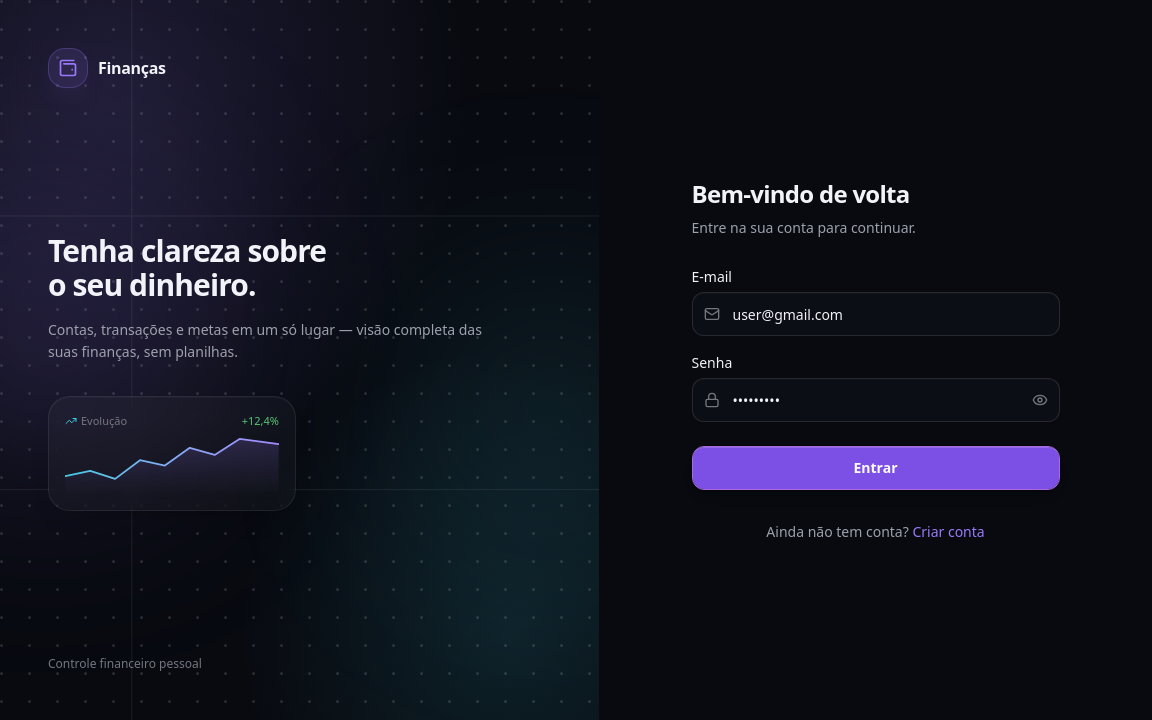
Test: LoginPage › shows the backend message and stays on the page when credentials are invalid
Replace the text in the field labelled "E-mail" with "ana@example.com" at [876, 314], box [692,292,1060,336]
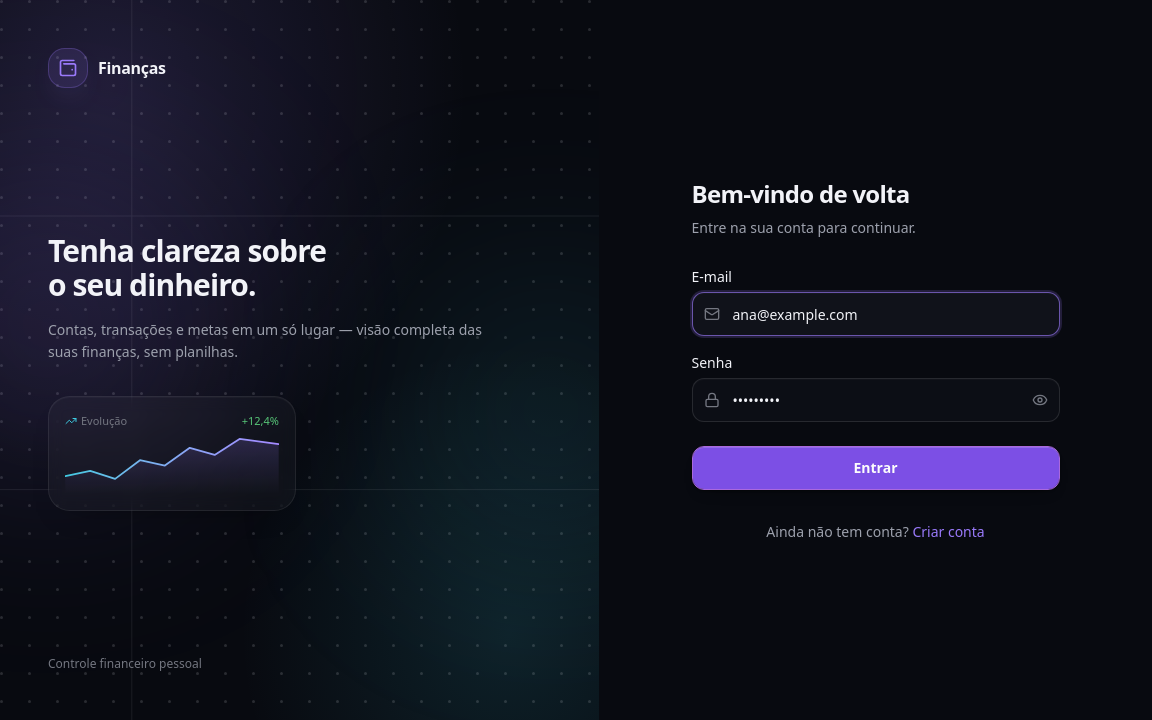
Type "senhaerrada" into the password field labelled "Senha" at [876, 400], box [692,378,1060,422]
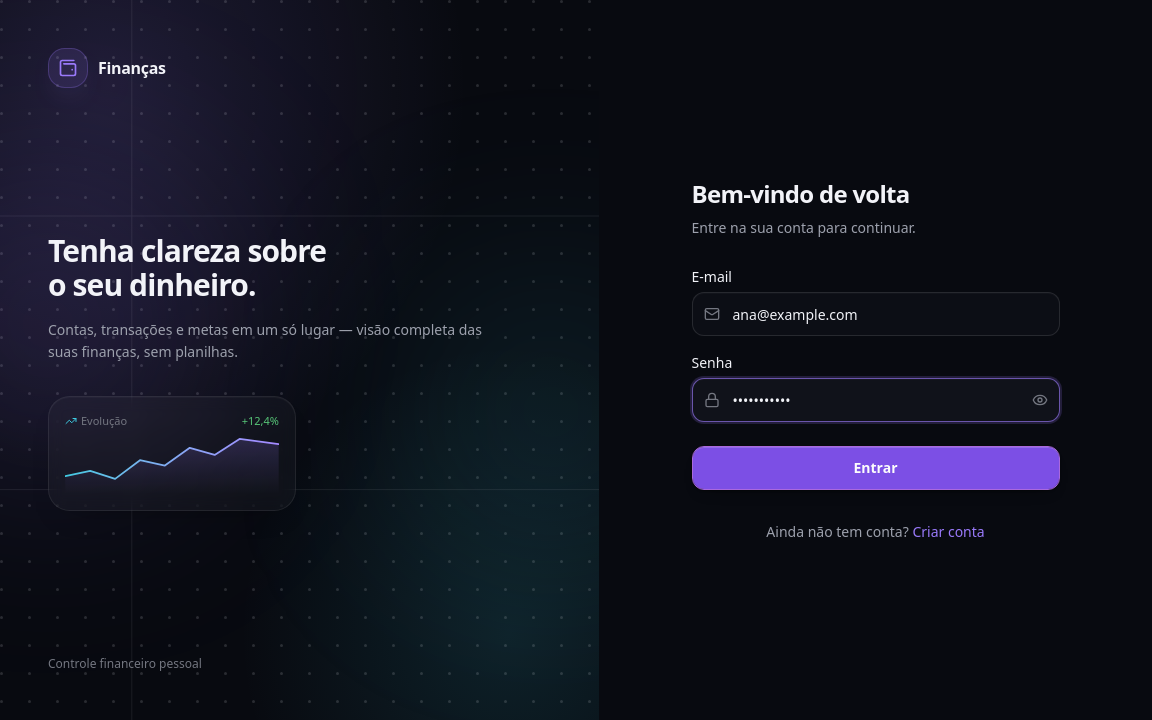
Click the button "Entrar" at [876, 468], box [692,446,1060,490]
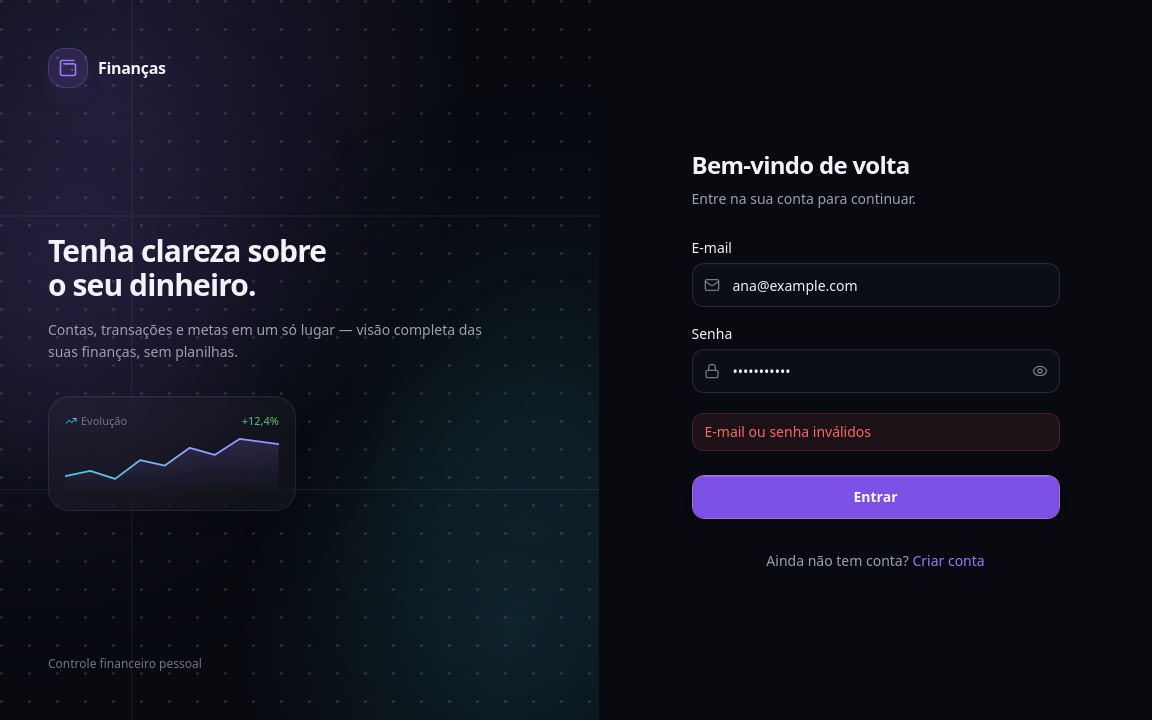
Expected: the text "E-mail ou senha inválidos" is shown, [692,413,1060,451]
